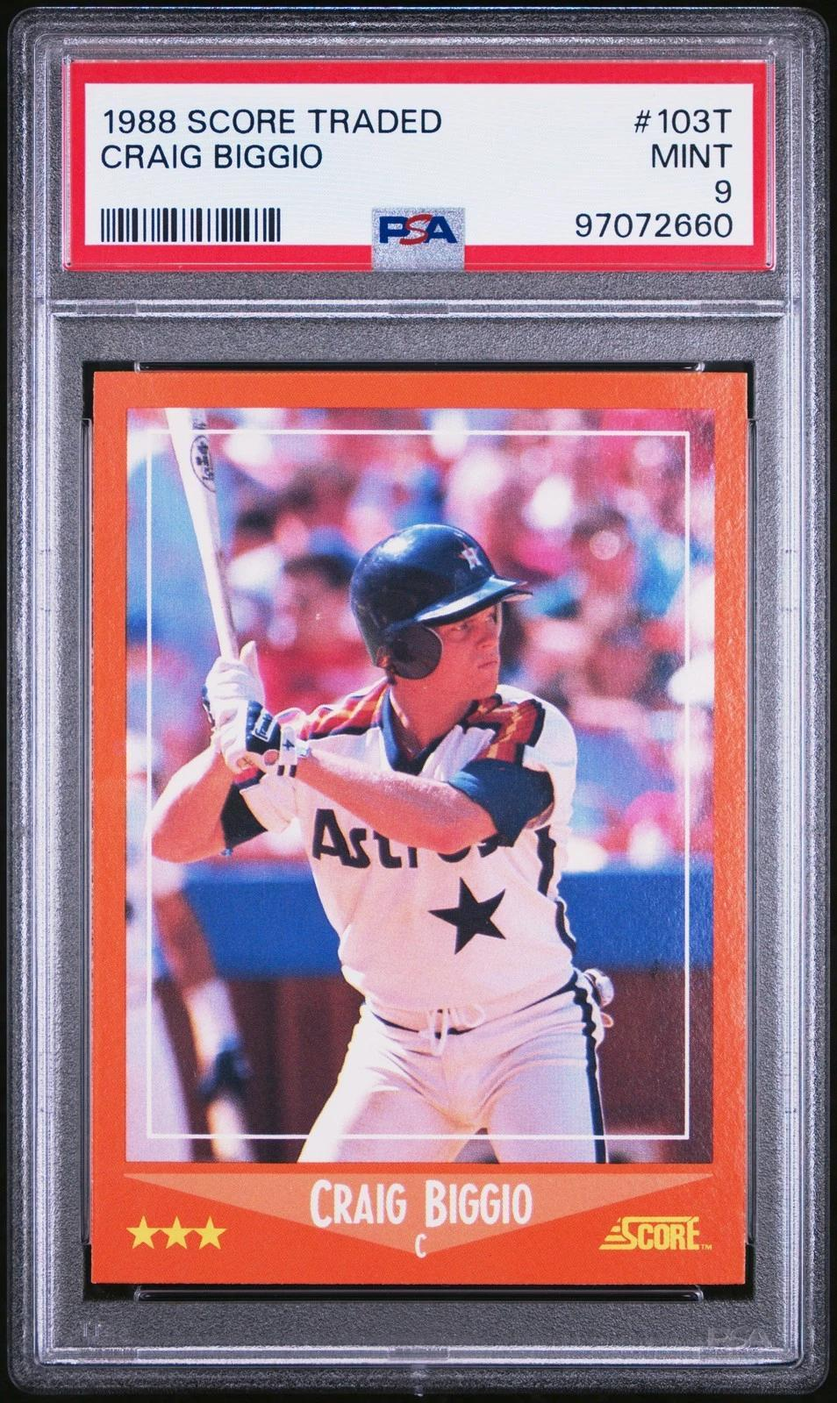card-2UtV: (89, 370, 749, 1286)
